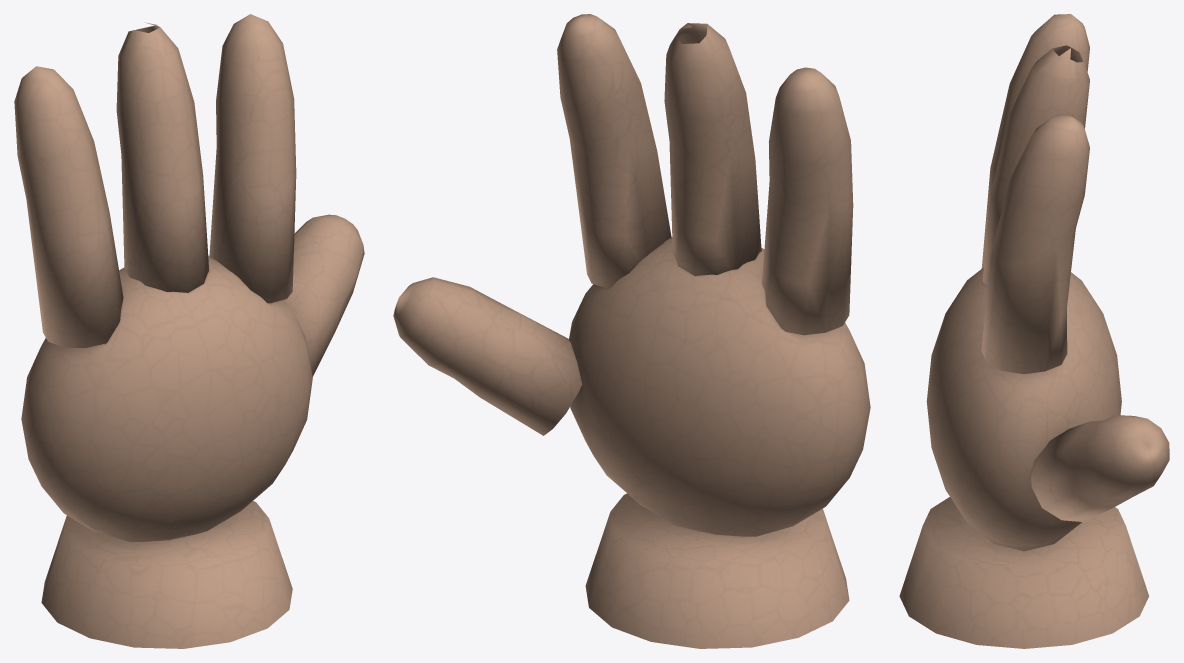
File: cpart_hand.glb
3 renders of one model, left to right at view 1: azimuth 30°, elevation 25°; view 2: azimuth 150°, elevation 25°; view 3: azimuth 270°, elevation 25°, orthographic. The views are drawn at different scales.
Parts seen in each view (by area): view 1: Hand; view 2: Hand; view 3: Hand.
Boxes of the visible parts, x1=… form: Hand: x1=14, y1=14, x2=364, y2=648; Hand: x1=393, y1=14, x2=870, y2=648; Hand: x1=899, y1=14, x2=1169, y2=648.
Bounding box in the file's own units: 0.1121 × 0.155 × 0.0692.
Materials: 1 (1 with a texture image).
